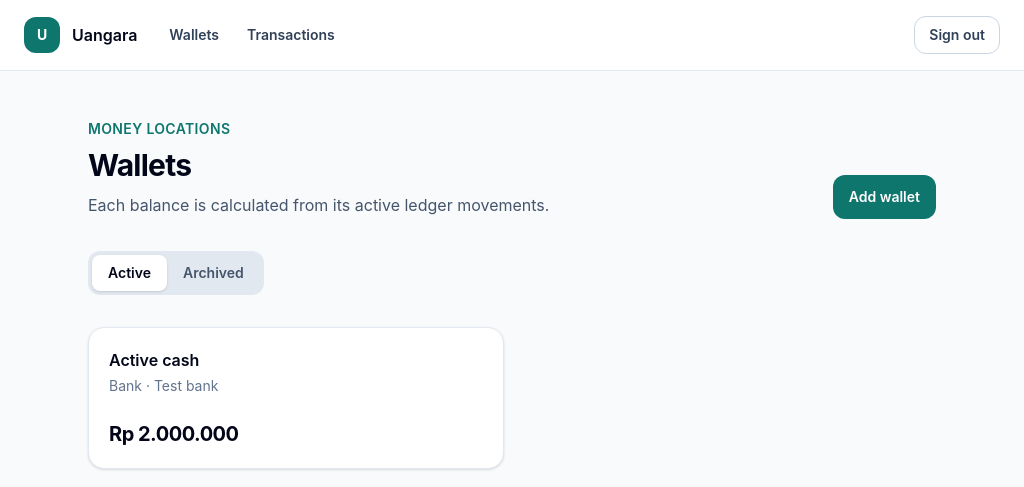
Test: wallet management flow › keeps active and archived wallet presentation distinct
Check: the heading "Active cash" is shown, box [109, 350, 199, 370]
Click the button "archived" at (213, 273), box [167, 255, 260, 291]
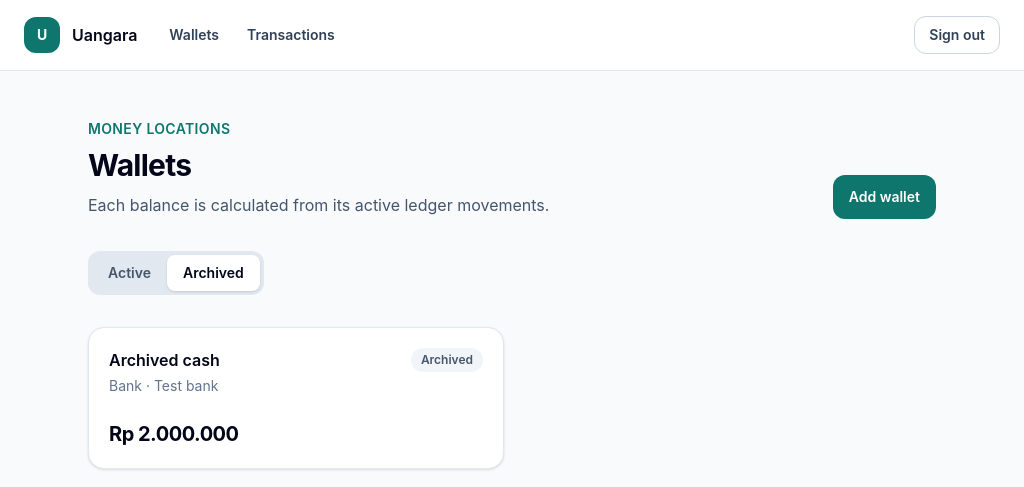
Check: the heading "Archived cash" is shown, box [109, 348, 220, 372]
Check: the text "Archived" is shown, box [411, 348, 483, 372]
